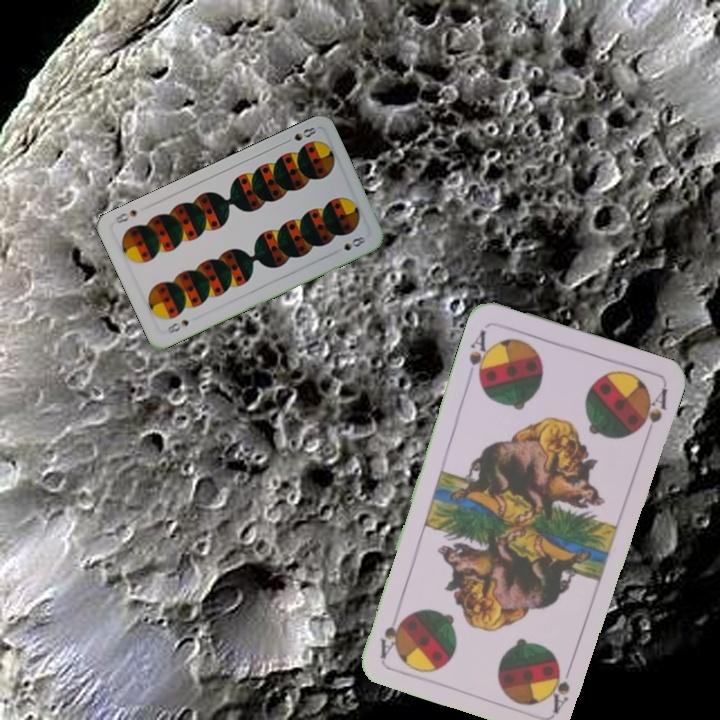S8: (280, 123, 319, 146), (160, 315, 192, 336)
SA: (463, 325, 495, 385), (548, 657, 576, 715)
